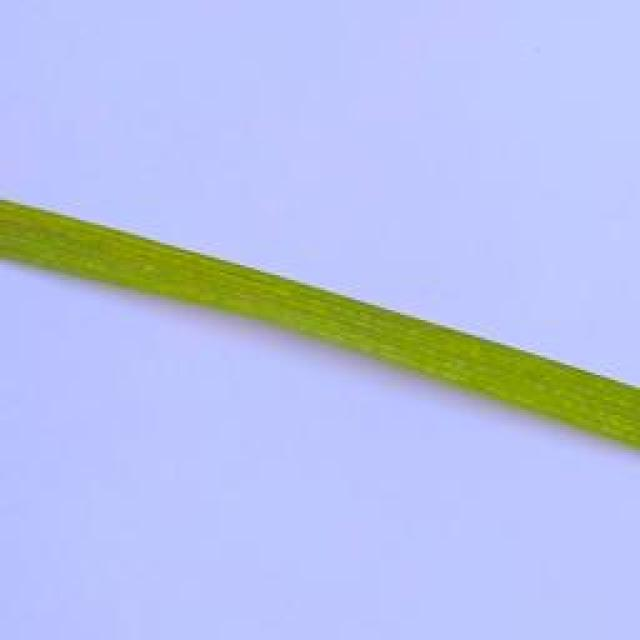Healthy-Plant: (0, 202, 640, 454)
